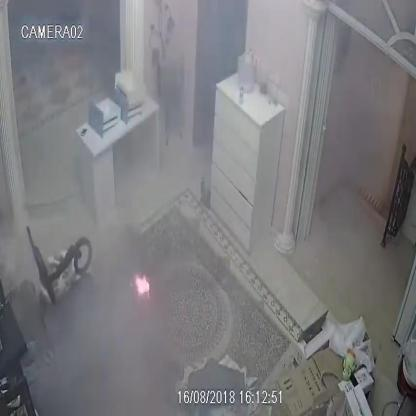fire: (136, 275, 150, 295)
